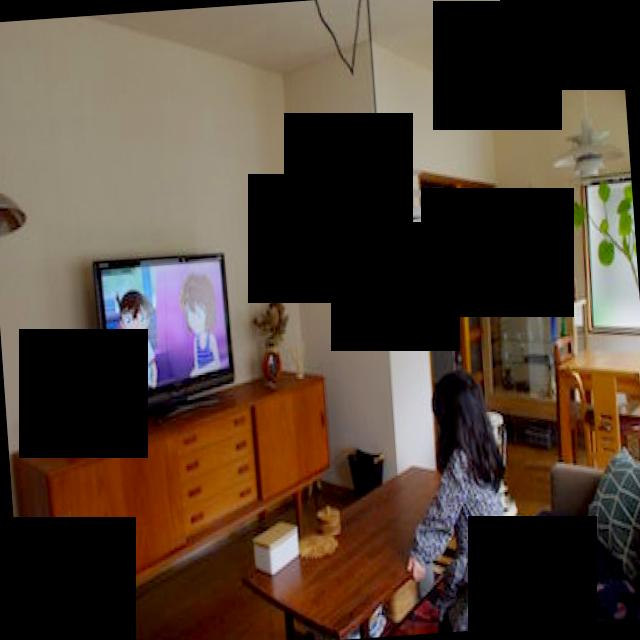vintage desk: (237, 454, 414, 640)
vintage shelf: (12, 360, 341, 615)
